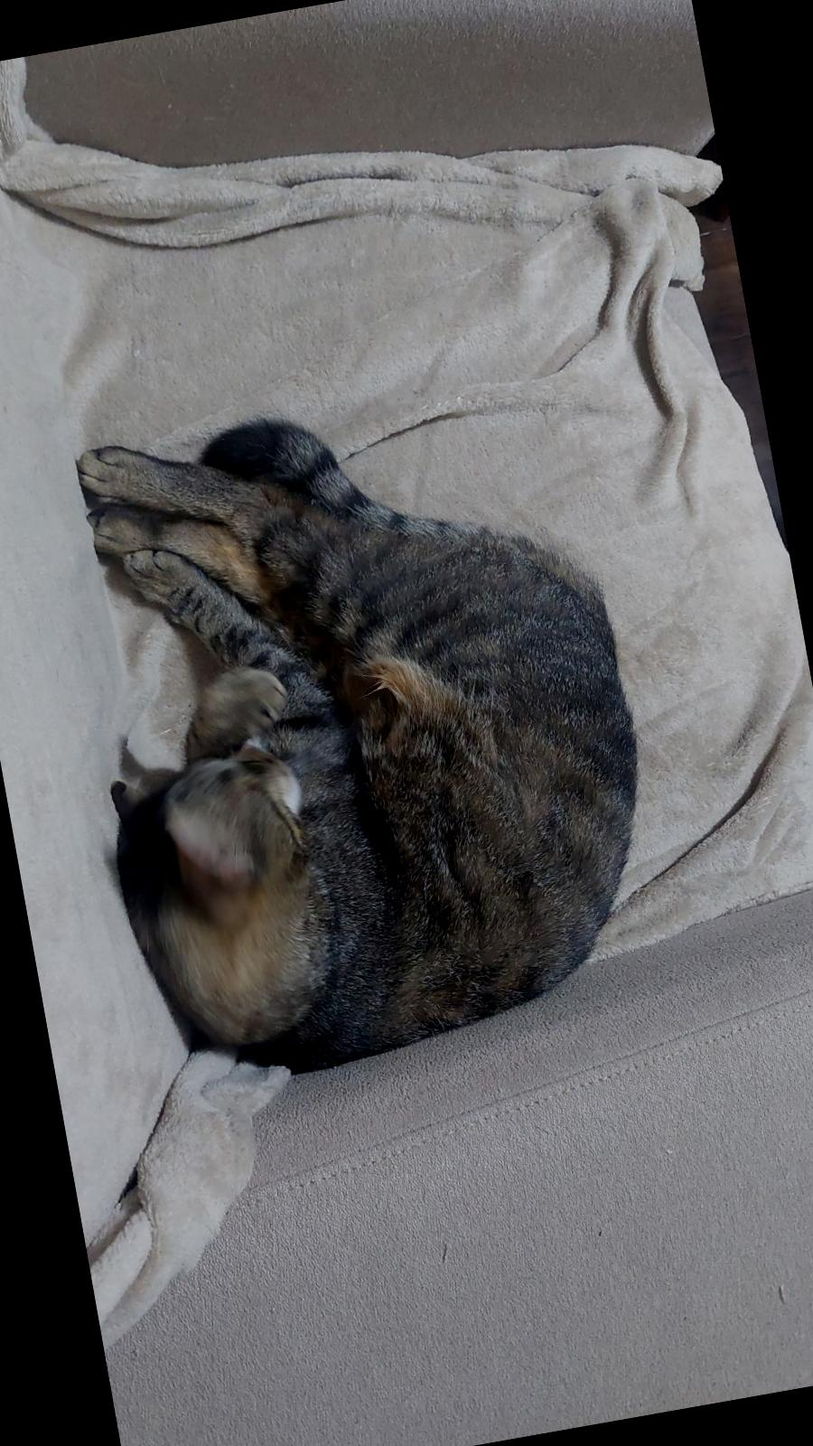macka: (44, 362, 686, 1102)
